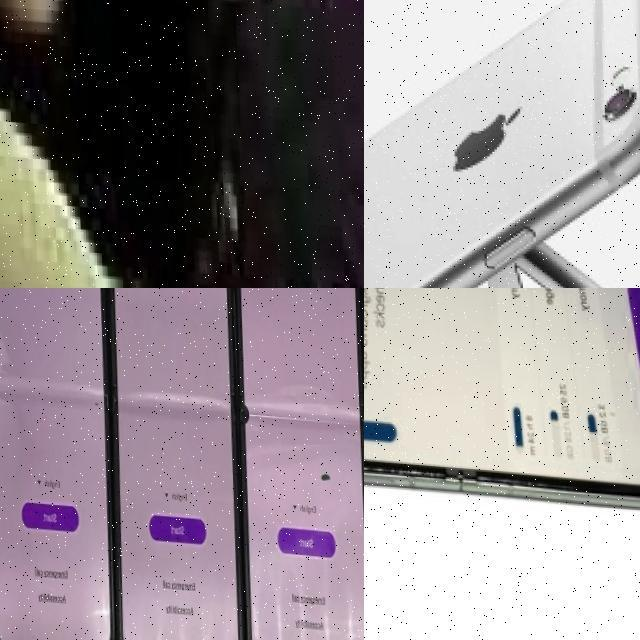dead pixel: (223, 388, 257, 429), (310, 452, 334, 489), (85, 381, 101, 418)
